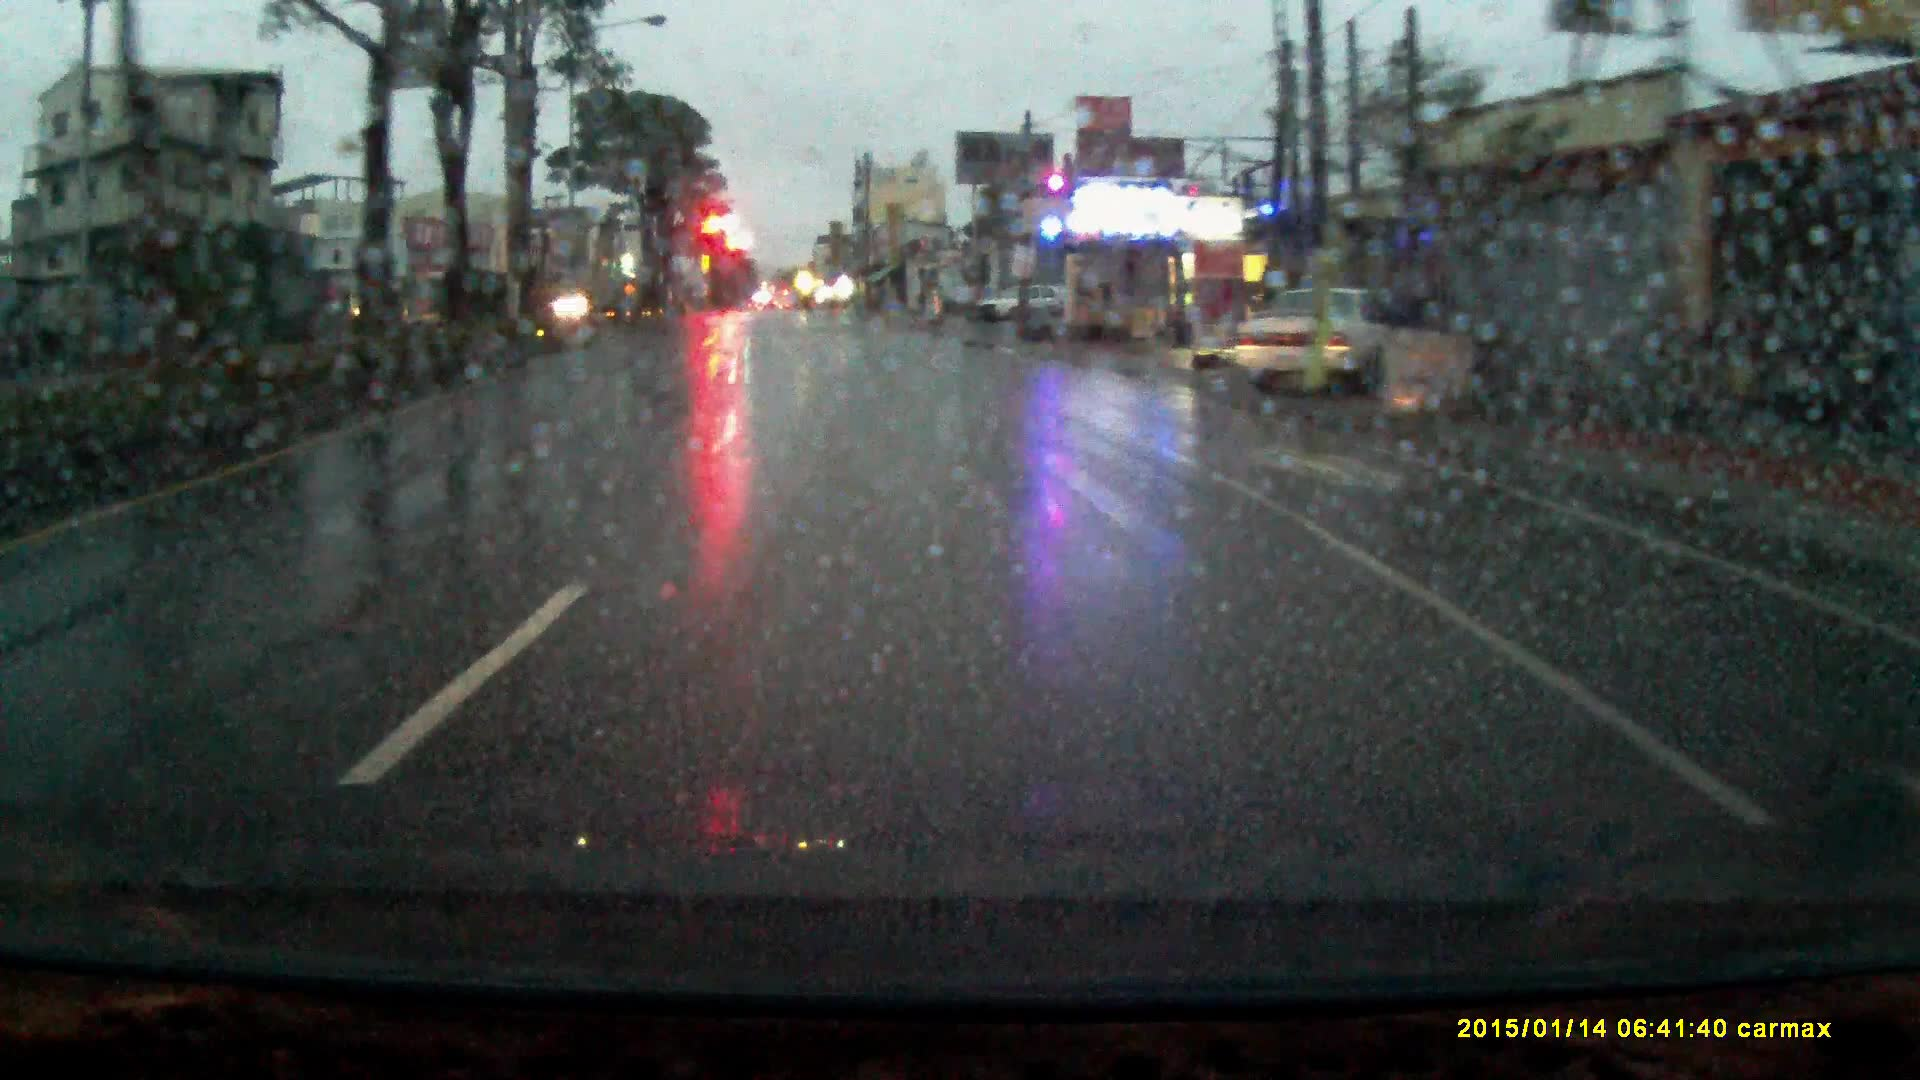vehicle: (1240, 287, 1415, 398), (978, 286, 1062, 324), (553, 290, 597, 322)
